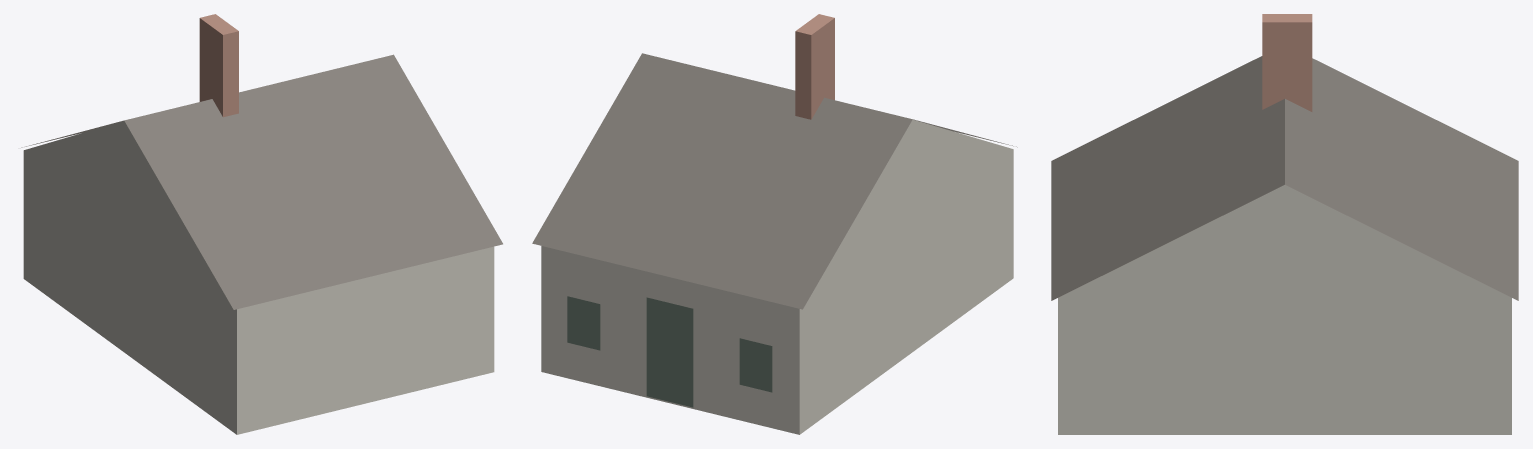
File: recon_1835_south_d4_002__recommended_1835.glb
3 views of the same model, side by side, from view 1: azimuth 30°, elevation 25°; view 2: azimuth 150°, elevation 25°; view 3: azimuth 270°, elevation 25° (orthographic). The views are drawn at different scales.
Parts seen in each view (by area): view 1: recon_1835_south_d4_002__recommended_1835; view 2: recon_1835_south_d4_002__recommended_1835; view 3: recon_1835_south_d4_002__recommended_1835.
Part boxes in pixels (<box>): recon_1835_south_d4_002__recommended_1835: <box>21,14,502,434</box>; recon_1835_south_d4_002__recommended_1835: <box>532,14,1017,434</box>; recon_1835_south_d4_002__recommended_1835: <box>1051,14,1518,434</box>.
Bounding box in the file's own units: 6.1 × 6.69 × 8.59.
